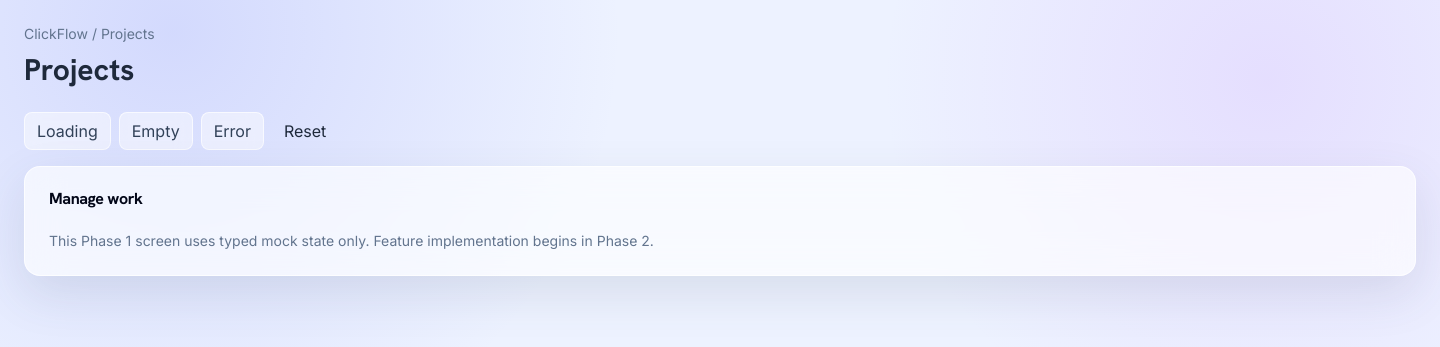
Scenario: PlaceholderPage › offers loading, empty, and error UI states
The image size is (1440, 347).
What coordinates should you click on to do the following:
click the button with aria-label "Loading state"
I would click on:
 (67, 131)
Its box is [24,112,111,150].
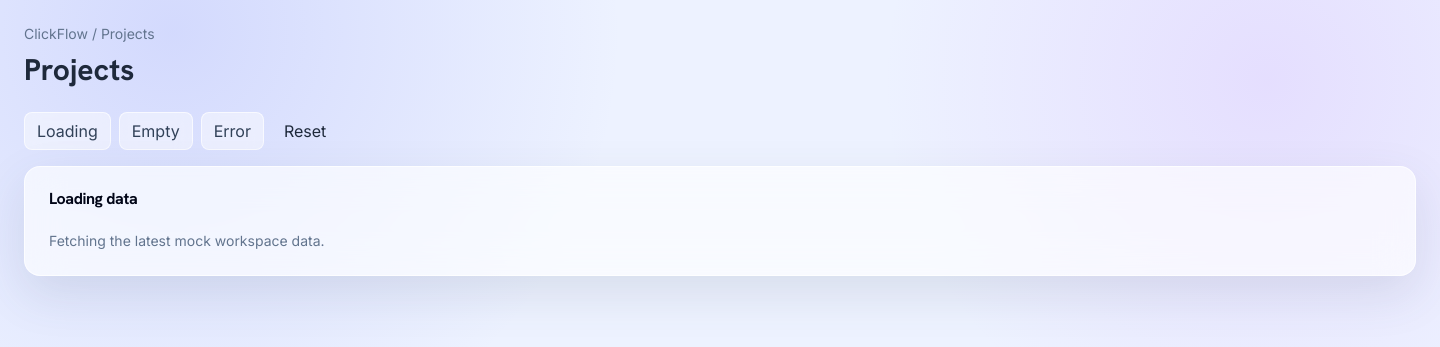
Check: the heading "Loading data" is shown, box [49,188,137,209]
Check: the message reads "Fetching the latest mock workspace data.", box [49,232,325,249]
What coordinates should you click on to do the following:
click the button with aria-label "Empty state"
I would click on:
 (156, 131)
Its box is [119,112,193,150].
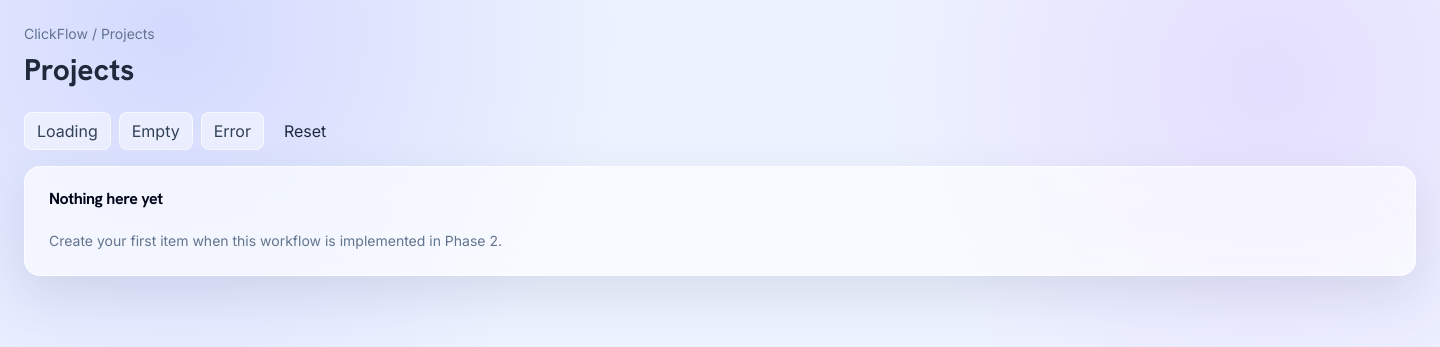
Check: the heading "Nothing here yet" is shown, box [49,188,163,209]
What coordinates should you click on to do the following:
click the button with aria-label "Error state"
I would click on:
 (232, 131)
Its box is [201,112,264,150].
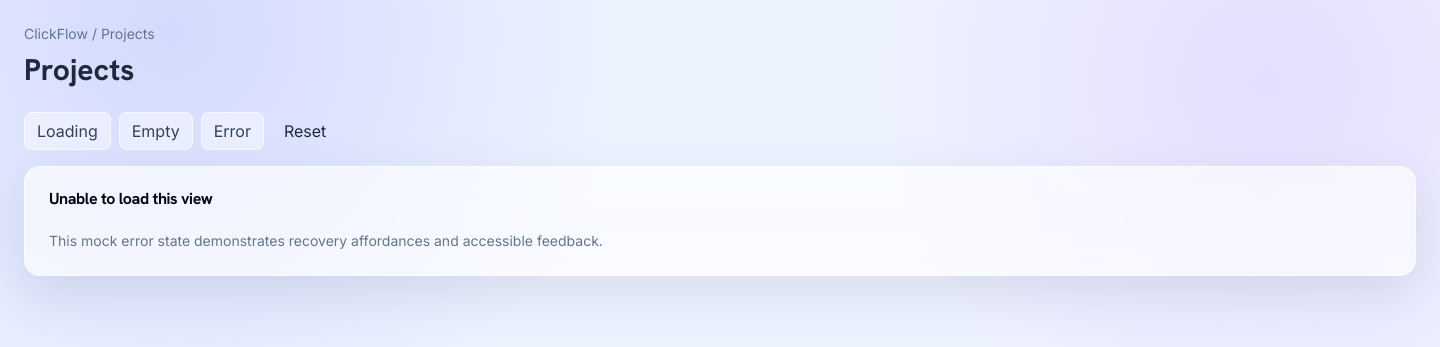
Check: the heading "Unable to load this view" is shown, box [49,188,212,209]
Check: the message shows "recovery affordances", box [49,232,603,249]
